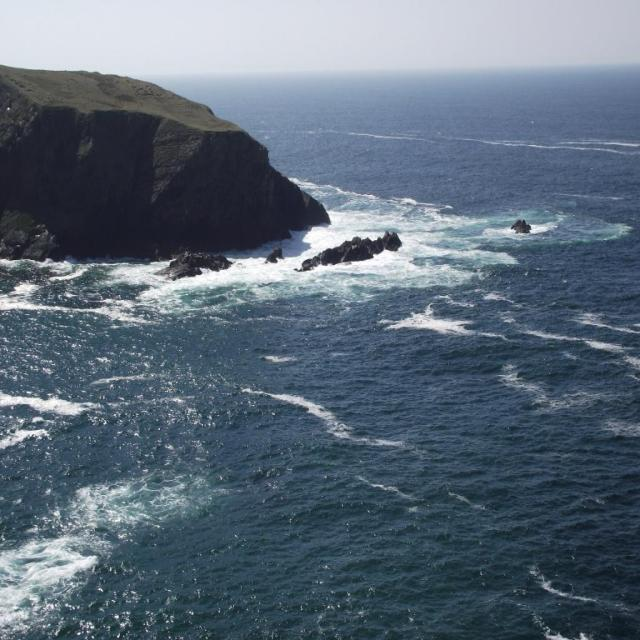island: (0, 55, 331, 262)
